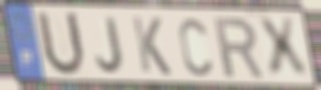C: (176, 16, 214, 78)
J: (94, 15, 125, 75)
K: (129, 14, 173, 78)
R: (211, 15, 266, 79)
U: (34, 9, 88, 79)
X: (254, 16, 312, 81)
